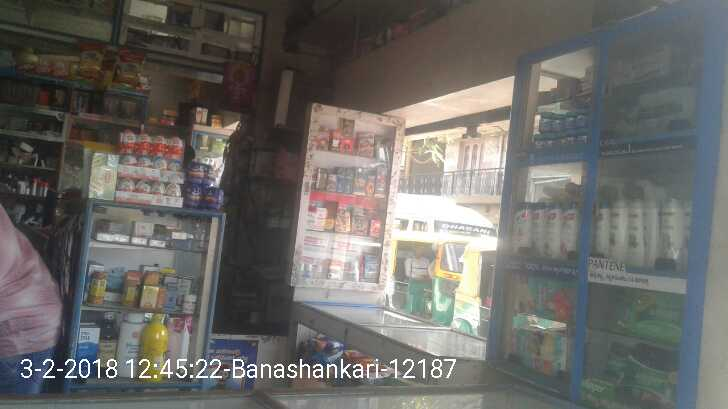beauty: (658, 196, 685, 275), (508, 200, 530, 257), (605, 204, 625, 265), (624, 200, 642, 265), (642, 197, 658, 268), (558, 202, 575, 266), (529, 202, 545, 263), (545, 202, 558, 269)
pharmacy: (585, 284, 690, 344), (495, 311, 573, 377), (623, 352, 679, 406), (512, 273, 577, 318), (563, 110, 586, 129), (540, 110, 555, 133), (532, 132, 545, 156)
